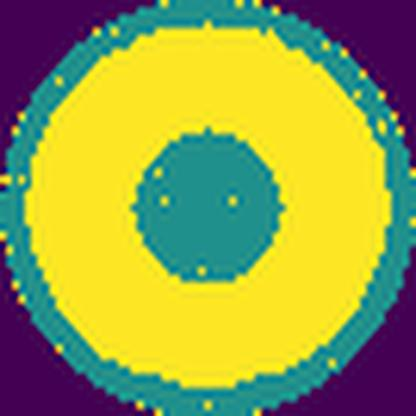Donut: (23, 24, 393, 394)
